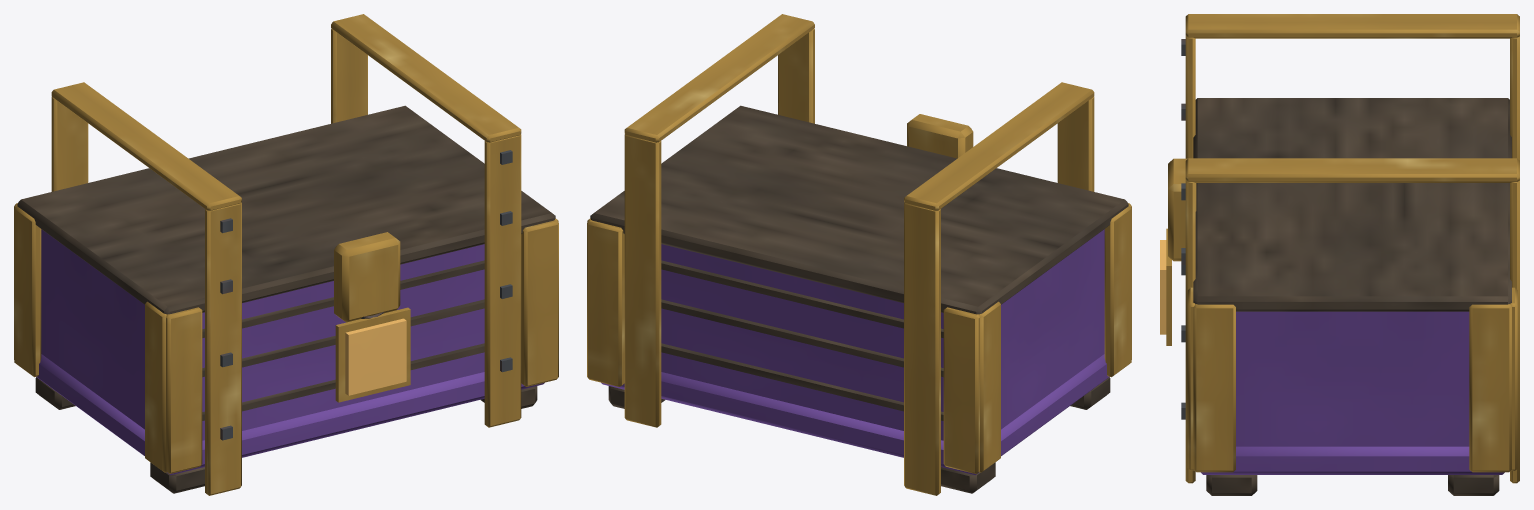
File: SM_Chest_VeryRare.fbx
3 views of the same model, side by side, from view 1: azimuth 30°, elevation 25°; view 2: azimuth 150°, elevation 25°; view 3: azimuth 270°, elevation 25° (orthographic). The views are drawn at different scales.
Parts seen in each view (by area): view 1: SM_Chest_VeryRare; view 2: SM_Chest_VeryRare; view 3: SM_Chest_VeryRare.
Boxes of the visible parts, box(x1,y1,x2,y2) form: SM_Chest_VeryRare: box(14, 14, 558, 495); SM_Chest_VeryRare: box(587, 14, 1131, 495); SM_Chest_VeryRare: box(1160, 14, 1519, 495).
Size of the model in its own units: 3.4 by 2.4 by 2.53.
Materials: 1 (1 with a texture image).
